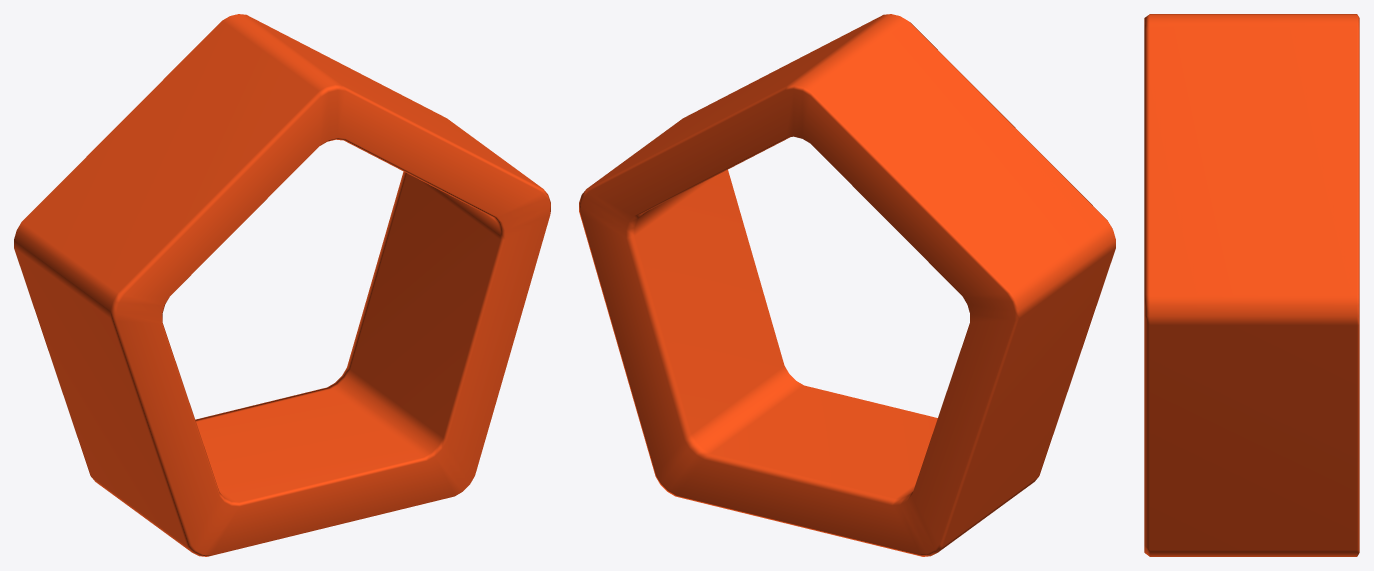
File: Farm_10_Shelf_1.glb
3 renders of one model, left to right at view 1: azimuth 30°, elevation 25°; view 2: azimuth 150°, elevation 25°; view 3: azimuth 270°, elevation 25°, orthographic. The views are drawn at different scales.
Parts seen in each view (by area): view 1: Farm_10_Shelf_1; view 2: Farm_10_Shelf_1; view 3: Farm_10_Shelf_1.
Boxes of the visible parts, x1,y1,x2,y2 form: Farm_10_Shelf_1: [14, 14, 550, 556]; Farm_10_Shelf_1: [579, 14, 1115, 556]; Farm_10_Shelf_1: [1144, 14, 1359, 556].
Bounding box in the file's own units: 1.14 × 1.09 × 0.451.
1 material, 1 textured.
